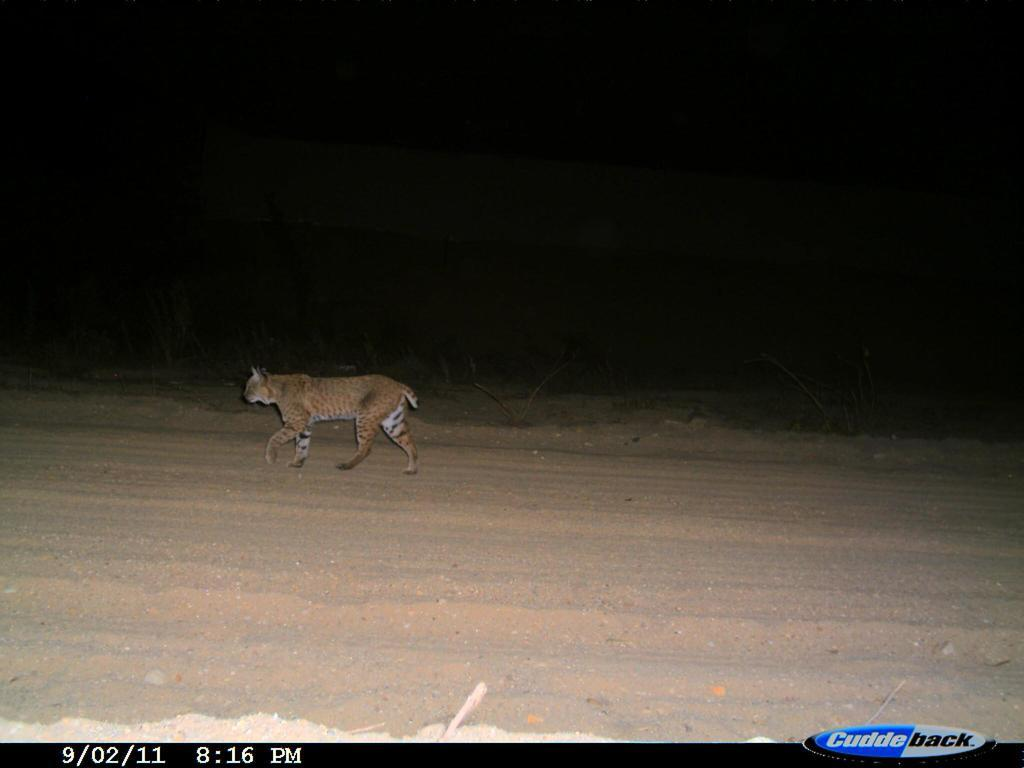bobcat: (242, 363, 424, 479)
